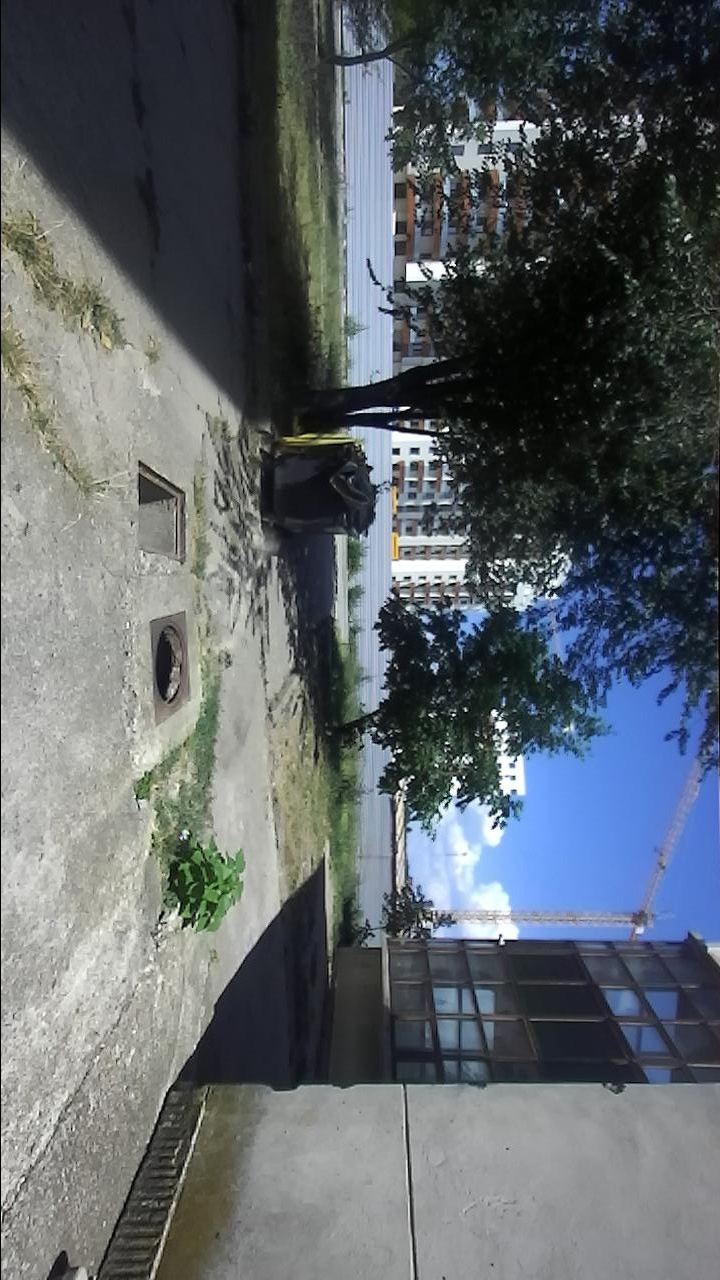drain: (132, 454, 193, 569), (148, 620, 187, 712)
